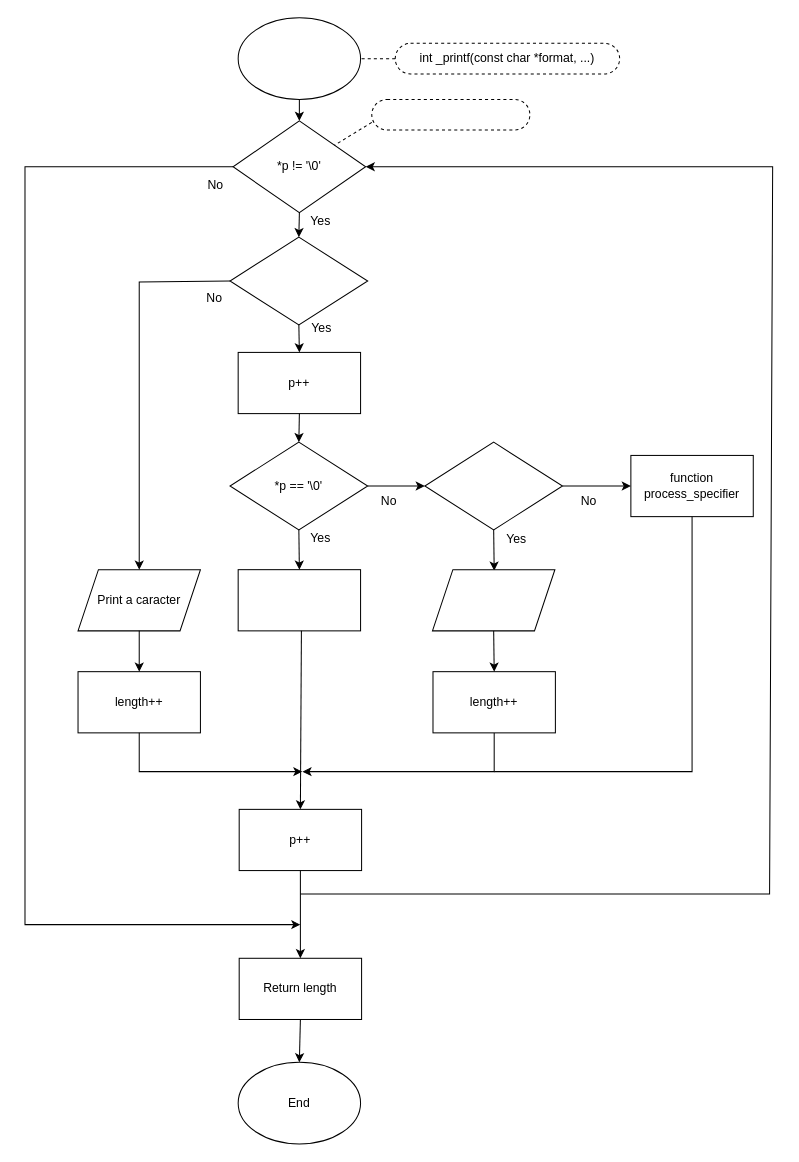
This 799x1162 diagram has some shape labels left out. Here are the shapes that lost their labels. From the top down, the centre of each, then its label:
At (x=299, y=58): "Start _printf".
At (x=450, y=114): "while loop condition".
At (x=298, y=280): "*p == %".
At (x=493, y=485): "*p == '%'".
At (x=299, y=600): "Return -1".
At (x=493, y=600): "Print %".
